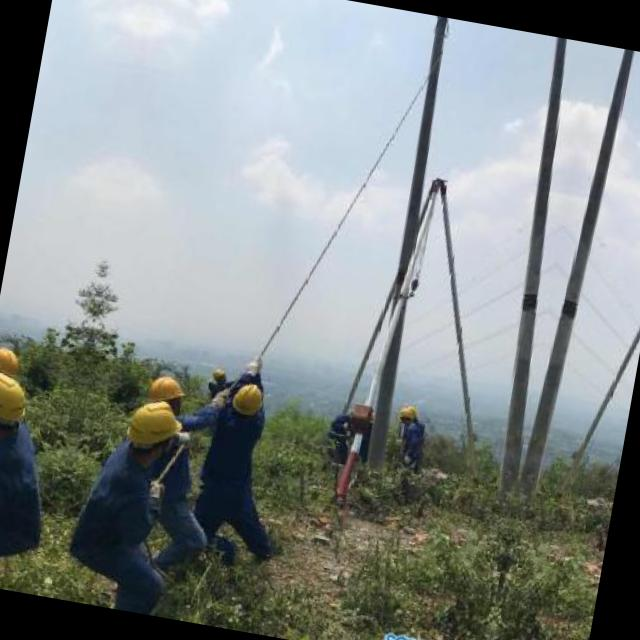helmet: (121, 400, 178, 460), (139, 364, 187, 412), (222, 378, 267, 426), (0, 373, 29, 434), (0, 335, 27, 383), (391, 401, 419, 428), (204, 362, 232, 389)
